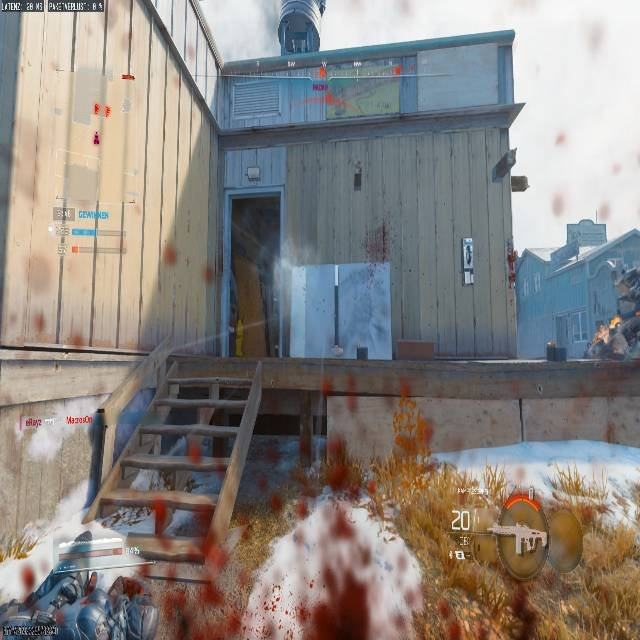head: (491, 501, 550, 579), (104, 574, 147, 615)
player: (288, 476, 421, 639), (613, 271, 640, 355)
